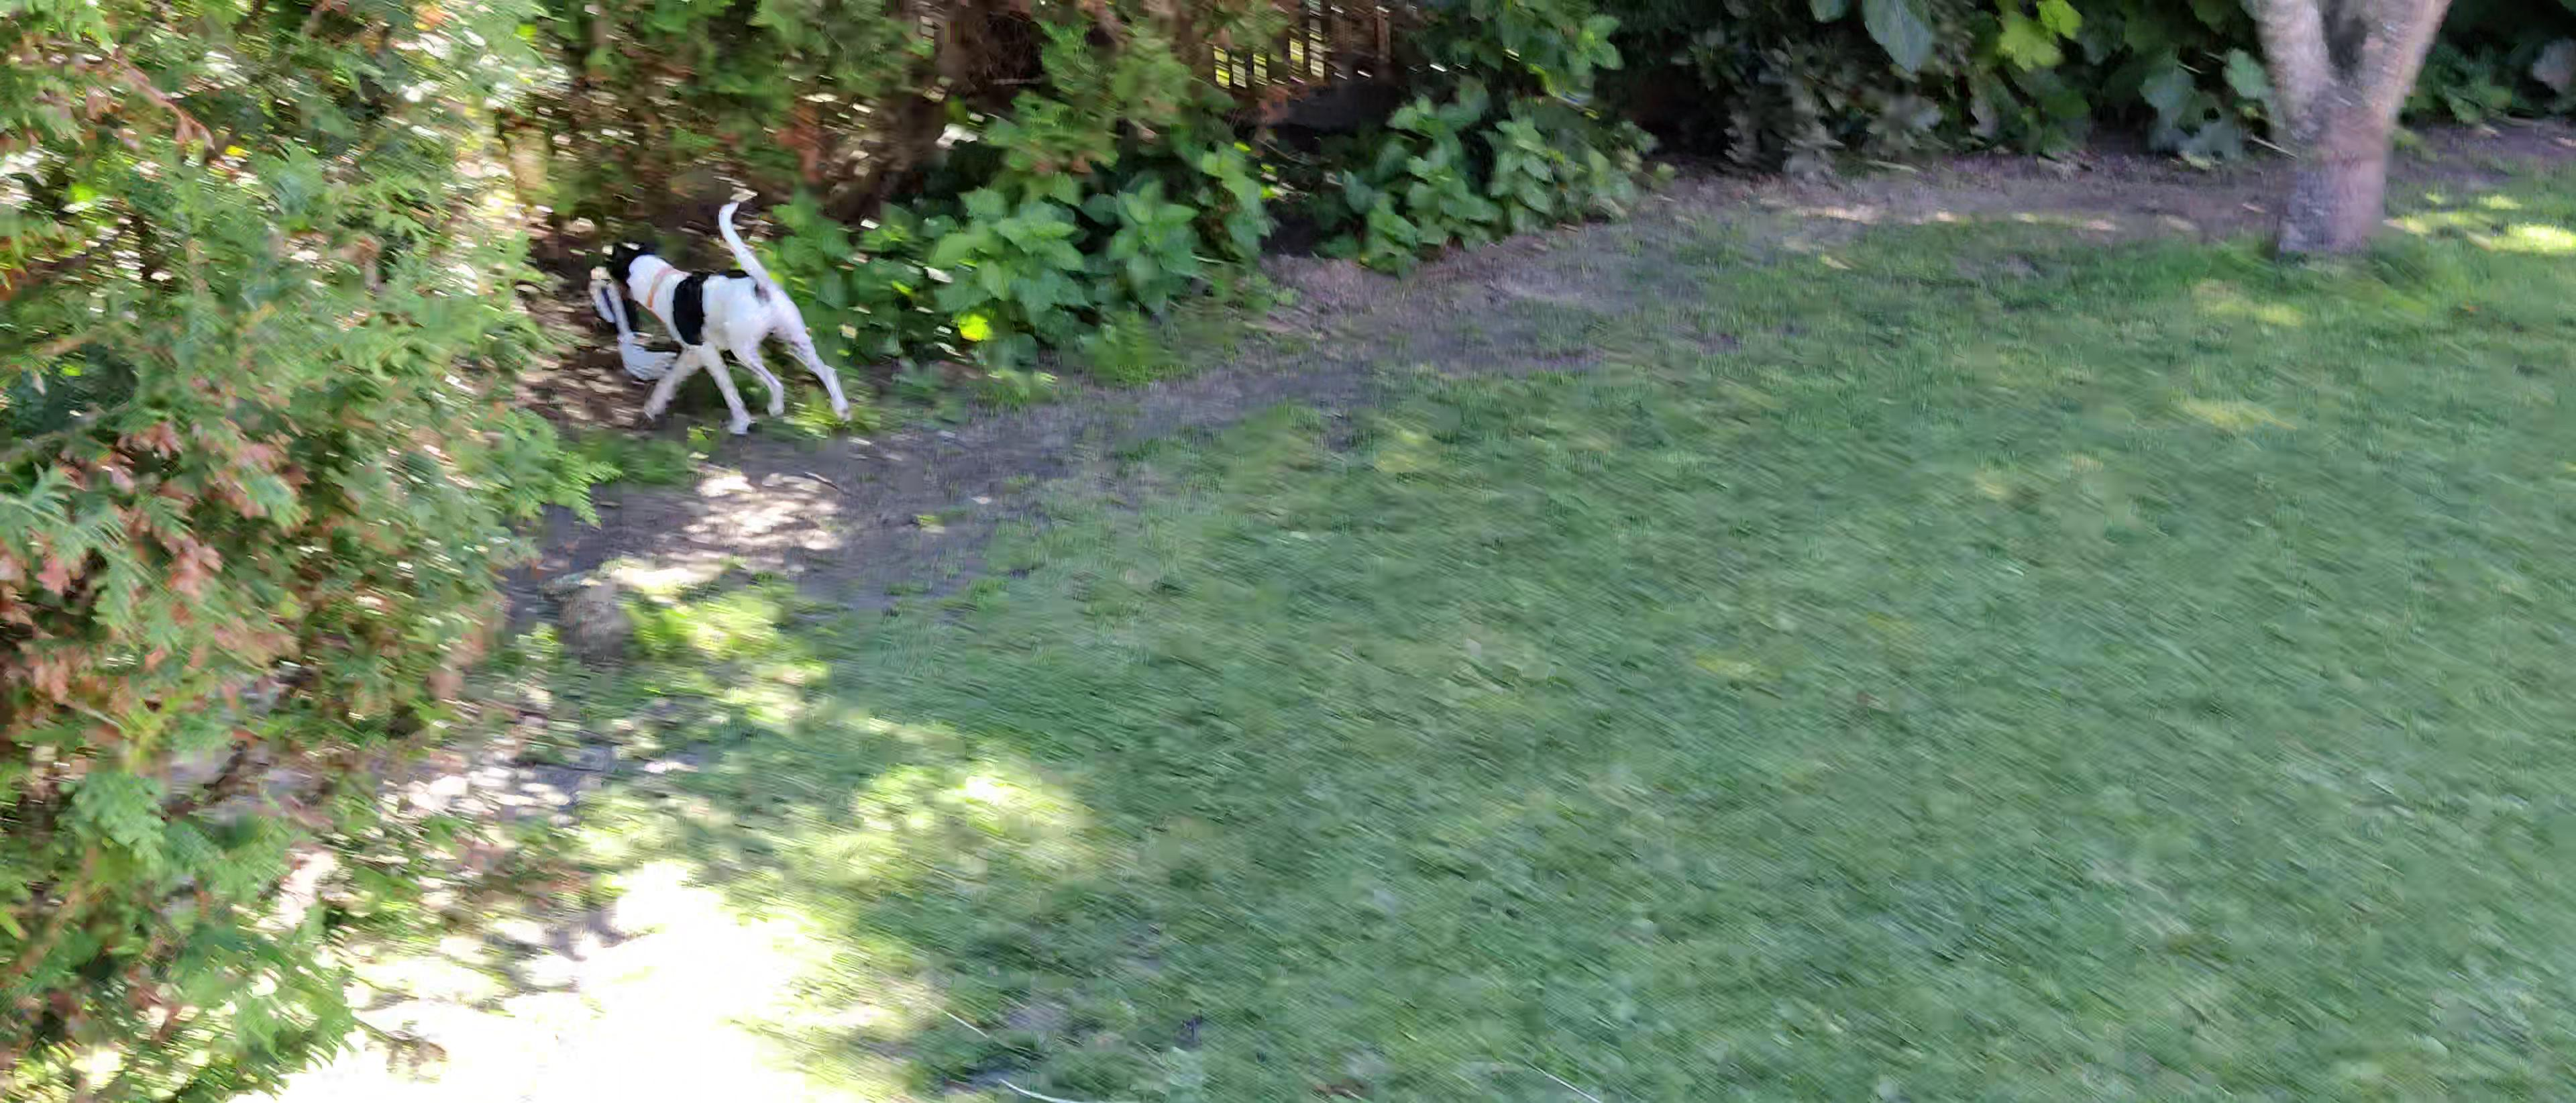Dog: (582, 186, 867, 447)
